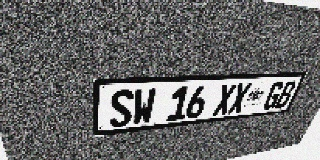1: (167, 86, 191, 121)
6: (185, 85, 210, 119)
B: (274, 81, 298, 109)
G: (262, 81, 286, 110)
S: (110, 89, 134, 128)
W: (132, 88, 156, 125)
X: (212, 84, 237, 116), (227, 83, 252, 114)
